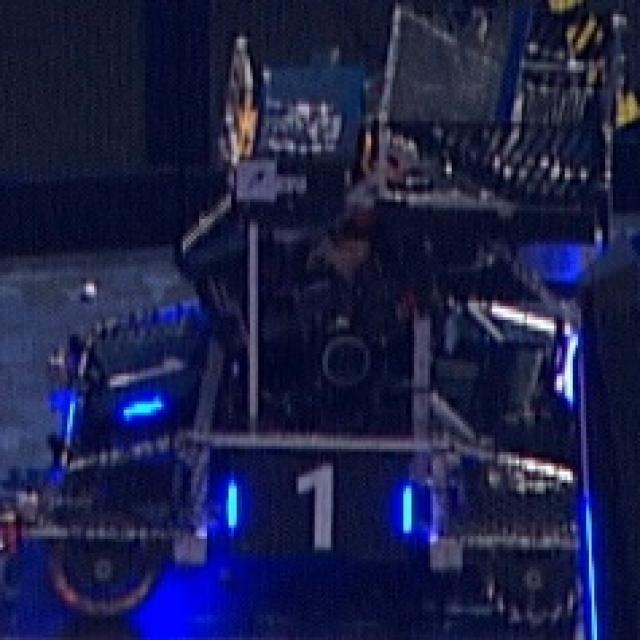B1: (223, 463, 414, 550)
